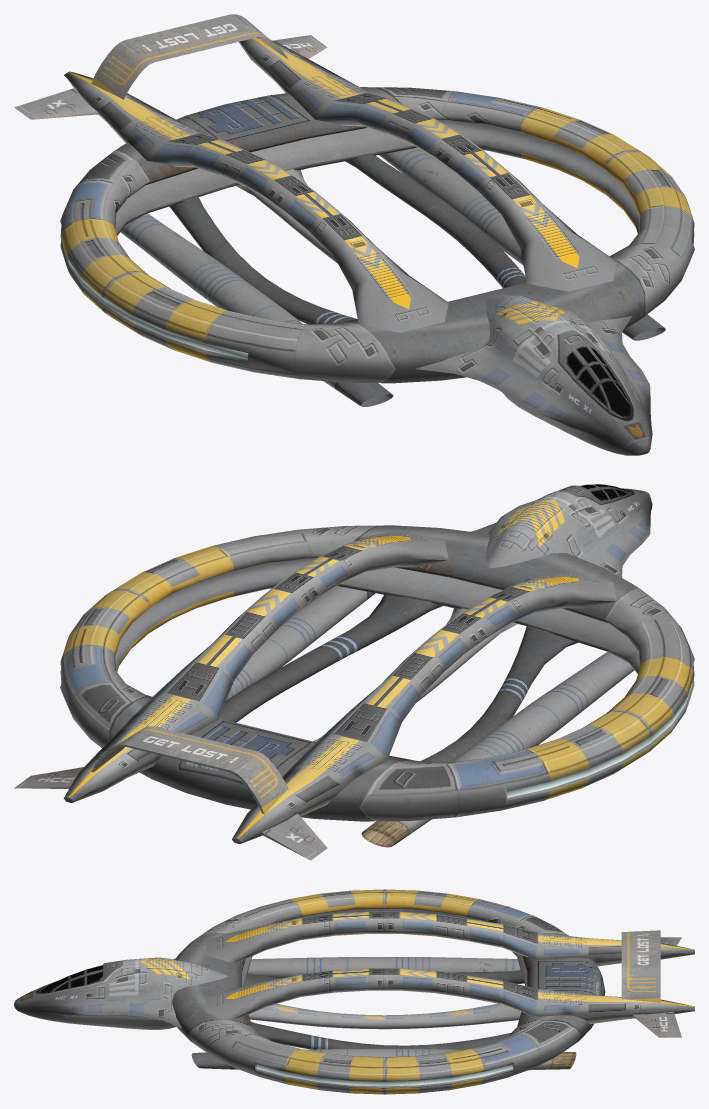
Rendered from Hover01_Body.obj.
3 views of the same model, one above another, from view 1: azimuth 30°, elevation 25°; view 2: azimuth 150°, elevation 25°; view 3: azimuth 270°, elevation 25° (orthographic). The views are drawn at different scales.
Parts seen in each view (by area): view 1: h01_body hover01; view 2: h01_body hover01; view 3: h01_body hover01.
Part boxes in pixels (left/top/right/bottom): h01_body hover01: left=14, top=14, right=694, bottom=455; h01_body hover01: left=14, top=484, right=694, bottom=860; h01_body hover01: left=14, top=889, right=694, bottom=1094.
Bounding box in the file's own units: 99.22 × 21 × 154.
